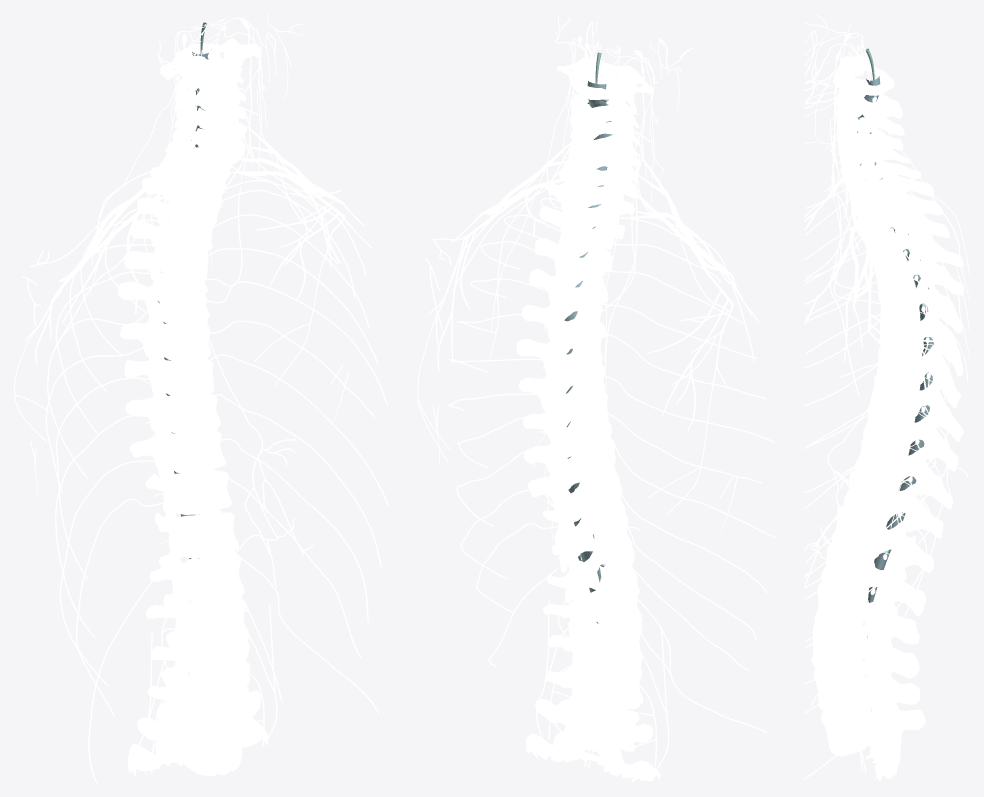
The model's file is spinal_cord.glb.
3 renders of one model, left to right at view 1: azimuth 30°, elevation 25°; view 2: azimuth 150°, elevation 25°; view 3: azimuth 270°, elevation 25°, orthographic. The views are drawn at different scales.
Visible parts, largest first — view 1: Intercostal nerves.r.001, Intercostal nerves.l.001, Vertebra L5, Vertebra L2, Vertebra L4, Vertebra L3, Vertebra L1, Vertebra T12, Vertebra T10, Vertebra T11, Vertebra T9, Vertebra T8 (+20 smaller); view 2: Vertebra L5, Intercostal nerves.r.001, Vertebra L4, Vertebra L2, Vertebra L3, Vertebra L1, Vertebra T10, Vertebra T6, Vertebra T9, Vertebra T7, Vertebra T12, Vertebra T8 (+19 smaller); view 3: Intercostal nerves.l.001, Vertebra L2, Vertebra L3, Vertebra L4, Vertebra L1, Vertebra L5, Vertebra T12, Vertebra T11, Vertebra T10, Vertebra T9, Vertebra T8, Vertebra T7 (+31 smaller).
Boxes of the visible parts, bbox=[...] form: Intercostal nerves.r.001: bbox=[45, 185, 177, 717]; Intercostal nerves.l.001: bbox=[207, 172, 388, 657]; Vertebra L5: bbox=[137, 690, 260, 776]; Vertebra L2: bbox=[145, 590, 249, 649]; Vertebra L4: bbox=[147, 662, 250, 734]; Vertebra L3: bbox=[152, 631, 249, 693]; Vertebra L1: bbox=[149, 551, 244, 603]; Vertebra T12: bbox=[155, 502, 238, 559]; Vertebra T10: bbox=[129, 418, 226, 475]; Vertebra T11: bbox=[145, 459, 231, 514]; Vertebra T9: bbox=[125, 381, 220, 434]; Vertebra T8: bbox=[124, 342, 214, 397]; Vertebra L5: bbox=[535, 699, 653, 768]; Intercostal nerves.r.001: bbox=[594, 217, 775, 670]; Vertebra L4: bbox=[545, 666, 643, 731]; Vertebra L2: bbox=[543, 585, 642, 669]; Vertebra L3: bbox=[548, 623, 642, 702]; Vertebra L1: bbox=[547, 548, 637, 643]; Vertebra T10: bbox=[527, 454, 619, 546]; Vertebra T6: bbox=[516, 337, 602, 416]; Vertebra T9: bbox=[523, 422, 614, 510]; Vertebra T7: bbox=[518, 364, 605, 446]; Vertebra T12: bbox=[552, 514, 632, 603]; Vertebra T8: bbox=[523, 392, 608, 482]; Intercostal nerves.l.001: bbox=[804, 212, 950, 713]; Vertebra L2: bbox=[814, 581, 919, 644]; Vertebra L3: bbox=[812, 621, 919, 678]; Vertebra L4: bbox=[813, 659, 920, 716]; Vertebra L1: bbox=[821, 542, 926, 615]; Vertebra L5: bbox=[821, 700, 925, 756]; Vertebra T12: bbox=[832, 505, 934, 572]; Vertebra T11: bbox=[844, 470, 943, 538]; Vertebra T10: bbox=[854, 438, 952, 509]; Vertebra T9: bbox=[863, 406, 958, 471]; Vertebra T8: bbox=[870, 375, 963, 441]; Vertebra T7: bbox=[876, 345, 960, 408].
Bounding box in the file's own units: 0.2719 × 0.6148 × 0.131.
